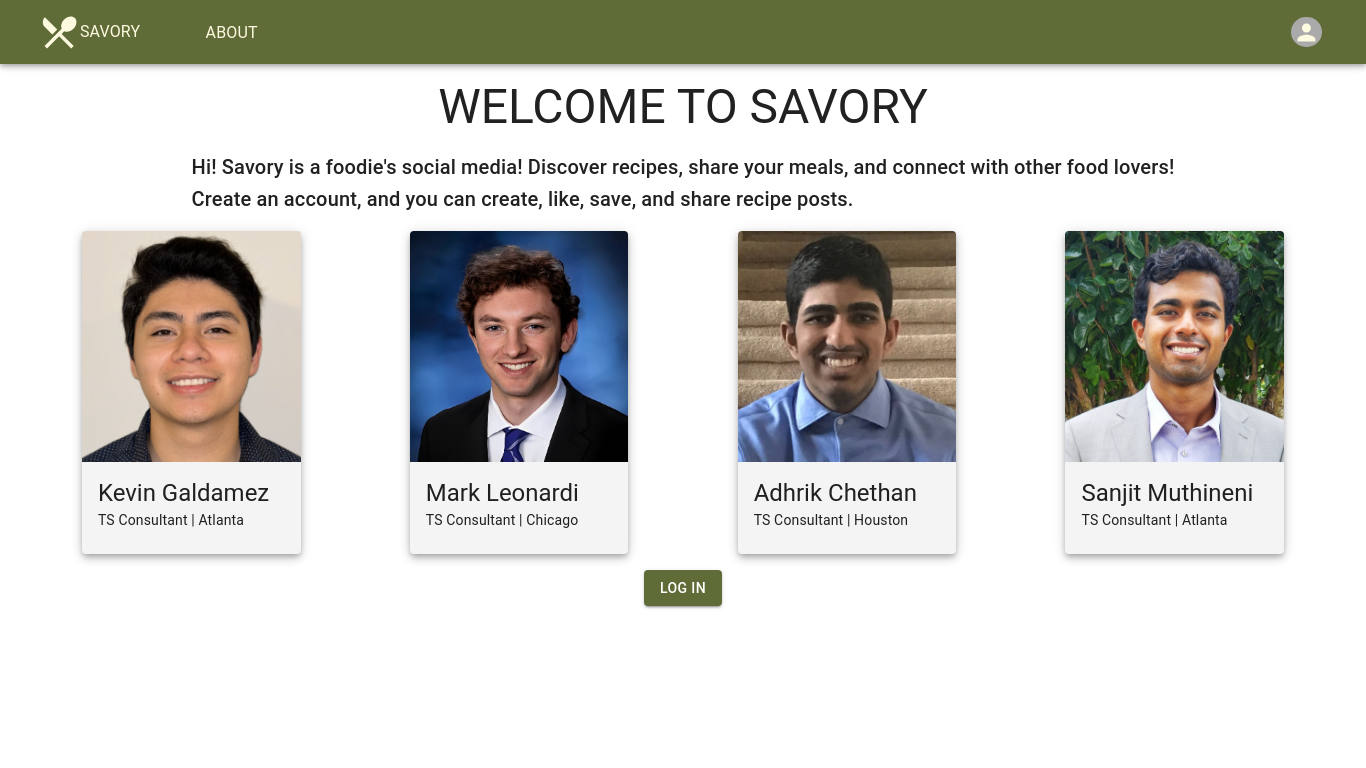
Test case: Unauthenticated Profile Options › Renders Login in Profile Options when NOT authenticated
Expected: the element with test id "mui-avatar" is shown, [1291, 17, 1322, 47]
Click the button with test id "mui-avatar": (1307, 32) [1284, 9, 1330, 55]
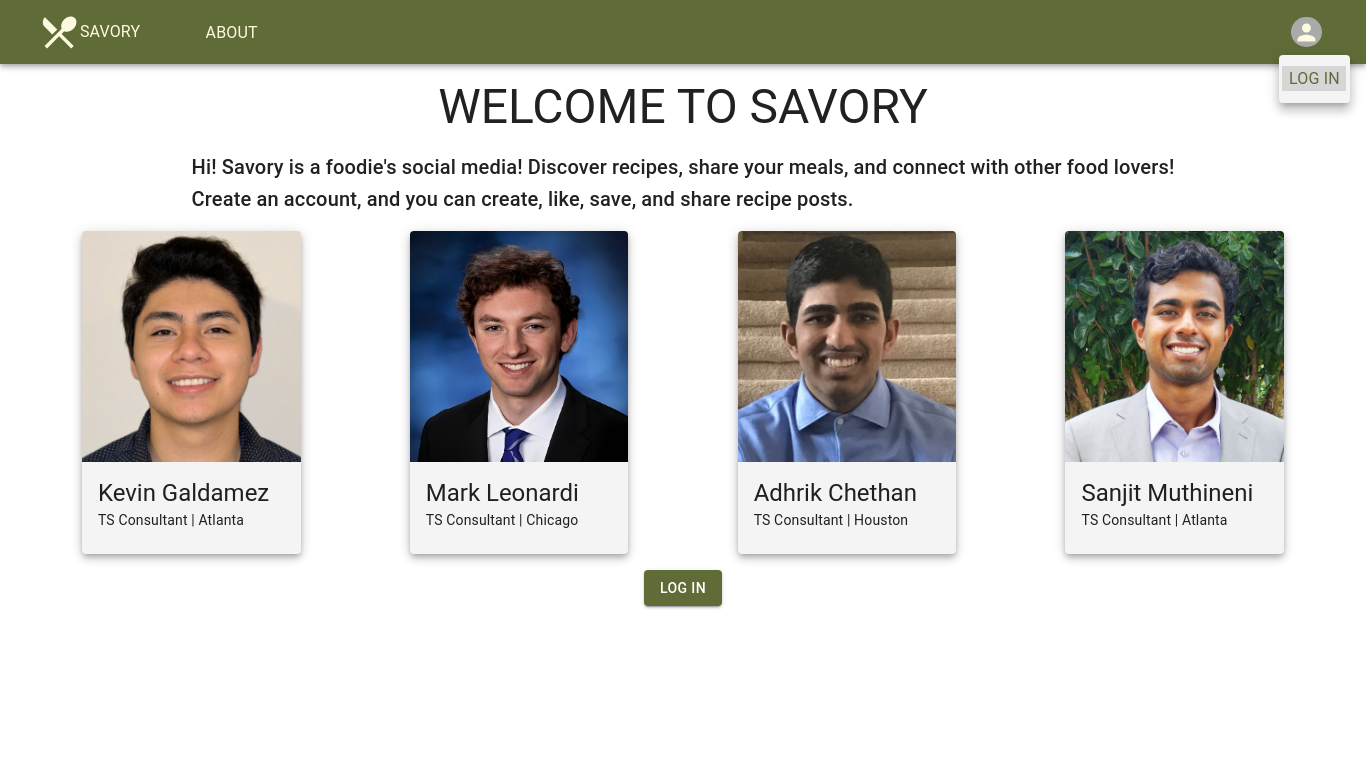
Expected: the text "Log in" is shown, [1289, 67, 1340, 91]
